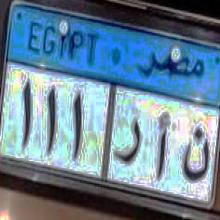1: (18, 76, 35, 148), (70, 89, 86, 162), (45, 82, 59, 157)
alif: (152, 109, 170, 181)
noon: (180, 118, 211, 188)
raa: (114, 113, 142, 173)
